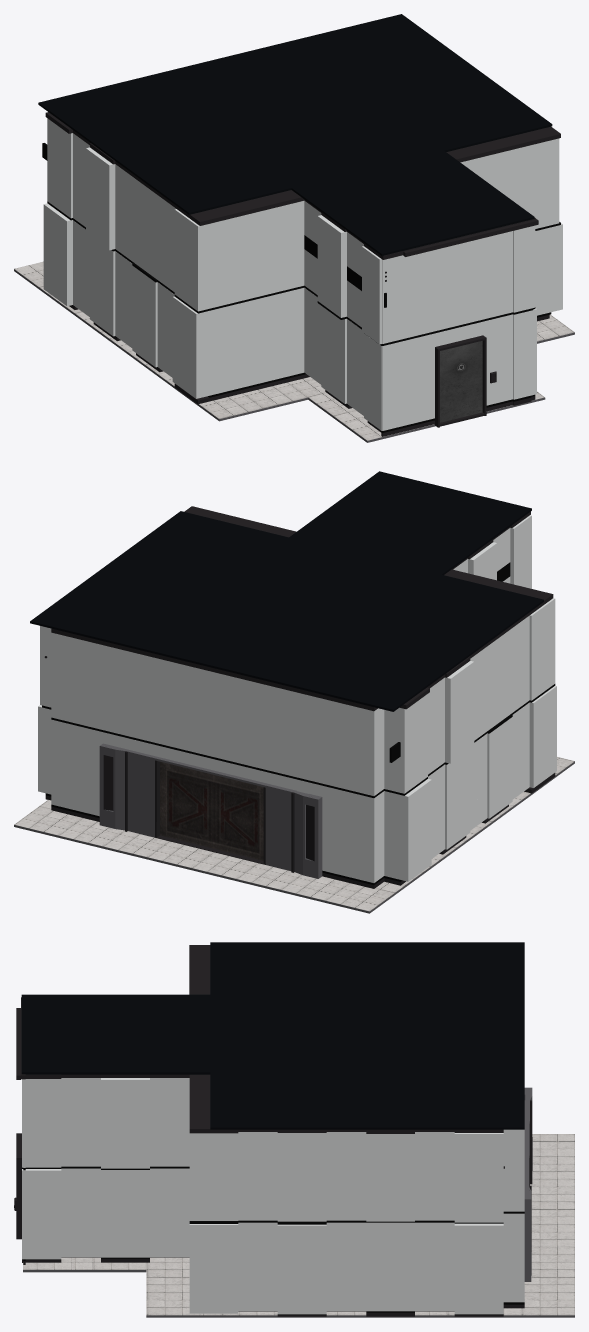
File: SCP End Gate.obj
The picture shows the model from 3 angles, top to bottom: view 1: azimuth 30°, elevation 25°; view 2: azimuth 150°, elevation 25°; view 3: azimuth 270°, elevation 25°; orthographic projection. The views are drawn at different scales.
Visible parts, largest first — view 1: Part282, Part281, Part116, Part118, Part7, Part138, Part16, Door3, Part66, Part259, Part244, Part136 (+28 smaller); view 2: Part282, Part360, Part281, Part286, Part284, Part362, Part244, Doormain2, Doormain6, Part246, Part259, Part358 (+33 smaller); view 3: Part282, Part281, Part329, Part316, Part136, Part331, Part72, Part318, Part335, Part138, Part70, Part337 (+31 smaller).
Boxes of the visible parts, bbox=[...] form: Part282: bbox=[38, 14, 552, 214]; Part281: bbox=[291, 151, 534, 255]; Part116: bbox=[172, 288, 304, 398]; Part118: bbox=[174, 201, 304, 311]; Part7: bbox=[382, 226, 535, 343]; Part138: bbox=[460, 138, 559, 228]; Part16: bbox=[382, 333, 434, 430]; Door3: bbox=[440, 341, 482, 422]; Part66: bbox=[317, 215, 346, 317]; Part259: bbox=[86, 147, 115, 250]; Part244: bbox=[43, 203, 72, 306]; Part136: bbox=[535, 223, 562, 315]; Part282: bbox=[30, 511, 543, 711]; Part360: bbox=[51, 632, 321, 783]; Part281: bbox=[289, 471, 531, 574]; Part286: bbox=[322, 785, 384, 882]; Part284: bbox=[322, 698, 384, 795]; Part362: bbox=[51, 719, 103, 816]; Part244: bbox=[384, 779, 431, 881]; Doormain2: bbox=[160, 761, 213, 848]; Doormain6: bbox=[214, 775, 263, 860]; Part246: bbox=[384, 694, 427, 793]; Part259: bbox=[445, 661, 474, 763]; Part358: bbox=[103, 732, 321, 796]; Part282: bbox=[210, 942, 524, 1129]; Part281: bbox=[21, 994, 210, 1074]; Part329: bbox=[454, 1223, 503, 1314]; Part316: bbox=[277, 1224, 326, 1314]; Part136: bbox=[189, 1224, 238, 1313]; Part331: bbox=[454, 1133, 503, 1222]; Part72: bbox=[101, 1078, 149, 1168]; Part318: bbox=[277, 1133, 326, 1221]; Part335: bbox=[366, 1222, 414, 1311]; Part138: bbox=[189, 1133, 238, 1220]; Part70: bbox=[101, 1170, 149, 1257]; Part337: bbox=[366, 1134, 414, 1221].
Size of the model in its own units: 38.32 by 18.39 by 48.17.
17 materials, 8 textured.
